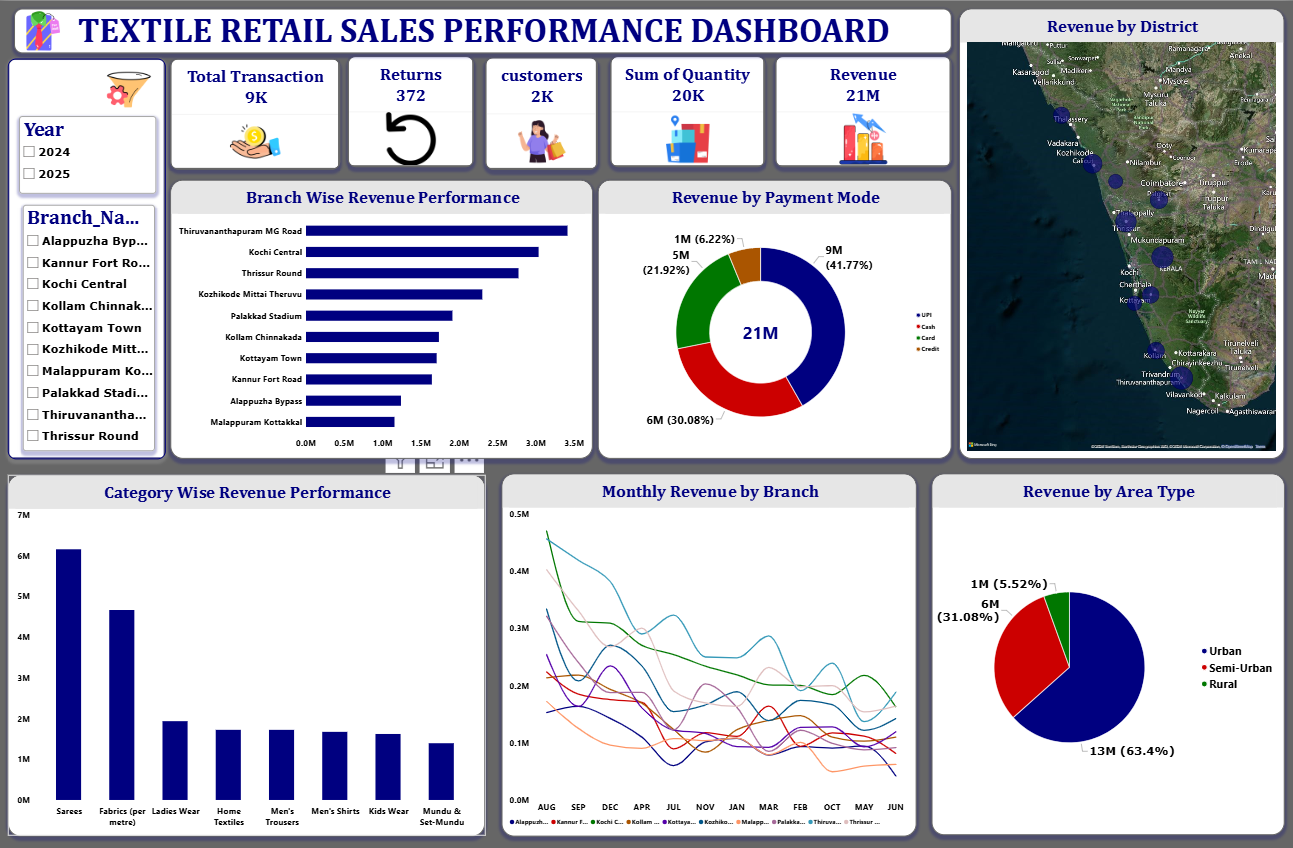

This screenshot's page, from the dashboard's own definition file:
{"tool":"powerbi","page":{"name":"Overview","canvas":[3050,2000],"ordinal":0},"visuals":[{"type":"image","box":[1051.4,631.4,131.4,97.1],"z":0},{"type":"lineChart","fields":{"Category":["Date_Table.Month"],"Series":["textile branches.Branch_Name"],"Y":["textile sales.Revenue"]},"box":[1182.9,1111.4,977.1,854.3],"z":0},{"type":"textbox","title":"TEXTILE RETAIL SALES PERFORMANCE DASHBOARD","box":[34.8,17.1,2206.5,105.7],"z":1000,"group":"g1"},{"type":"cardVisual","fields":{"Data":["textile customers.customers"]},"box":[1143.5,132.6,264.7,264.7],"z":1000},{"type":"cardVisual","fields":{"Data":["Sum(textile sales.Quantity)"]},"box":[1437,130.4,364.7,261.8],"z":2000},{"type":"cardVisual","fields":{"Data":["textile sales.Revenue"]},"box":[1826.1,130.4,414.7,261.8],"z":3000},{"type":"cardVisual","fields":{"Data":["textile sales.Returns"]},"box":[819.6,130.4,297.1,261.8],"z":4000},{"type":"columnChart","title":"Revenue By Category","fields":{"Category":["textile products.Category"],"Y":["textile sales.Revenue"]},"box":[20,1114.3,1122.9,851.4],"z":5000},{"type":"barChart","fields":{"Category":["textile branches.Branch_Name"],"Y":["textile sales.Revenue"]},"box":[402.9,420,994.3,657.1],"z":6000},{"type":"donutChart","fields":{"Category":["textile sales.Payment_Mode"],"Y":["textile sales.Revenue"]},"box":[1408.7,419.6,832.6,656.5],"z":7000},{"type":"cardVisual","title":"T","fields":{"Data":["textile sales.Total Transaction"]},"box":[402.9,134.3,400,261.8],"z":8000},{"type":"map","fields":{"Category":["textile branches.District"],"Size":["textile sales.Revenue"]},"box":[2260,17.1,765.7,1060],"z":9000},{"type":"pieChart","fields":{"Category":["textile branches.Area_Type"],"Y":["textile sales.Revenue"]},"box":[2194.3,1111.4,831.4,851.4],"z":10000},{"type":"shape","box":[20,134.3,371.7,943.5],"z":13001,"group":"g2"},{"type":"image","box":[34.3,17.8,137.2,105.7],"z":13126,"group":"g1"},{"type":"slicer","fields":{"Values":["Date_Table.Year"]},"box":[45.4,268.7,322.9,182.9],"z":13501,"group":"g2"},{"type":"group","id":"g1","title":"Group 1","box":[34.3,17.1,2205.7,105.7],"z":13502},{"type":"group","id":"g2","title":"Group 2","box":[20,134.3,371.7,943.5],"z":13503,"group":"g3"},{"type":"group","id":"g3","title":"Group 3","box":[20,134.3,371.7,943.5],"z":13504,"group":"g4"},{"type":"group","id":"g4","title":"Group 4","box":[20,134.3,371.7,943.5],"z":13506},{"type":"image","box":[242.9,147.8,122.9,117.1],"z":13751,"group":"g2"},{"type":"slicer","fields":{"Values":["textile branches.Branch_Name"]},"box":[54.3,479.2,310.9,580],"z":14001,"group":"g2"}]}

Visuals, with their boxes in screenshot pixels (x1, y1, x2, y2), scaled from the page's 3050x2000 canvas onto the 1293x848 screenshot:
image: x1=446, y1=268, x2=501, y2=309
lineChart - Date_Table.Month x textile branches.Branch_Name: x1=501, y1=471, x2=916, y2=833
"TEXTILE RETAIL SALES PERFORMANCE DASHBOARD" textbox: x1=15, y1=7, x2=950, y2=52
cardVisual - textile customers.customers: x1=485, y1=56, x2=597, y2=168
cardVisual - Sum(textile sales.Quantity): x1=609, y1=55, x2=764, y2=166
cardVisual - textile sales.Revenue: x1=774, y1=55, x2=950, y2=166
cardVisual - textile sales.Returns: x1=347, y1=55, x2=473, y2=166
"Revenue By Category" columnChart: x1=8, y1=472, x2=485, y2=833
barChart - textile branches.Branch_Name x textile sales.Revenue: x1=171, y1=178, x2=592, y2=457
donutChart - textile sales.Payment_Mode x textile sales.Revenue: x1=597, y1=178, x2=950, y2=456
"T" cardVisual: x1=171, y1=57, x2=340, y2=168
map - textile branches.District x textile sales.Revenue: x1=958, y1=7, x2=1283, y2=457
pieChart - textile branches.Area_Type x textile sales.Revenue: x1=930, y1=471, x2=1283, y2=832
shape: x1=8, y1=57, x2=166, y2=457
image: x1=15, y1=8, x2=73, y2=52
slicer - Date_Table.Year: x1=19, y1=114, x2=156, y2=191
"Group 1" group: x1=15, y1=7, x2=950, y2=52
"Group 2" group: x1=8, y1=57, x2=166, y2=457
"Group 3" group: x1=8, y1=57, x2=166, y2=457
"Group 4" group: x1=8, y1=57, x2=166, y2=457
image: x1=103, y1=63, x2=155, y2=112
slicer - textile branches.Branch_Name: x1=23, y1=203, x2=155, y2=449
